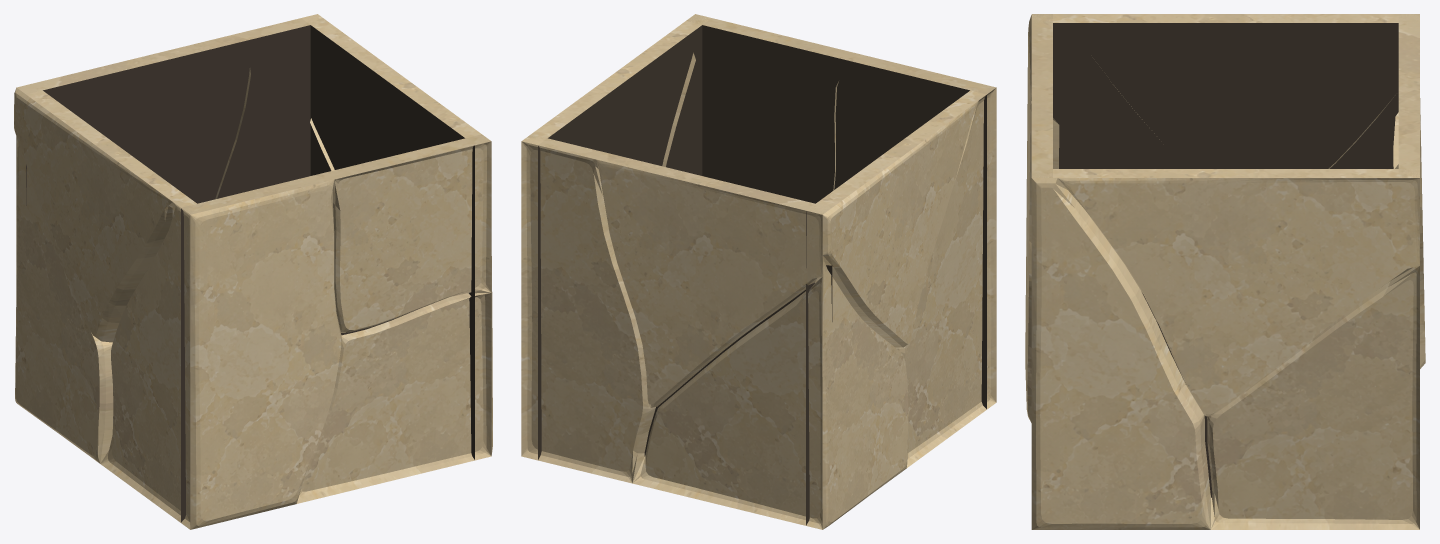
Rendered from ground_square_island_02.glb.
The picture shows the model from 3 angles, left to right: view 1: azimuth 30°, elevation 25°; view 2: azimuth 150°, elevation 25°; view 3: azimuth 270°, elevation 25°; orthographic projection. The views are drawn at different scales.
Visible parts, largest first — view 1: GroundSquareIsland02_Body; view 2: GroundSquareIsland02_Body; view 3: GroundSquareIsland02_Body.
Part boxes in pixels (x1,y1,x2,y2): GroundSquareIsland02_Body: (14,14,492,529); GroundSquareIsland02_Body: (521,14,996,529); GroundSquareIsland02_Body: (1025,14,1425,529).
Size of the model in its own units: 1.03 by 1 by 1.03.
14 materials, 13 textured.
